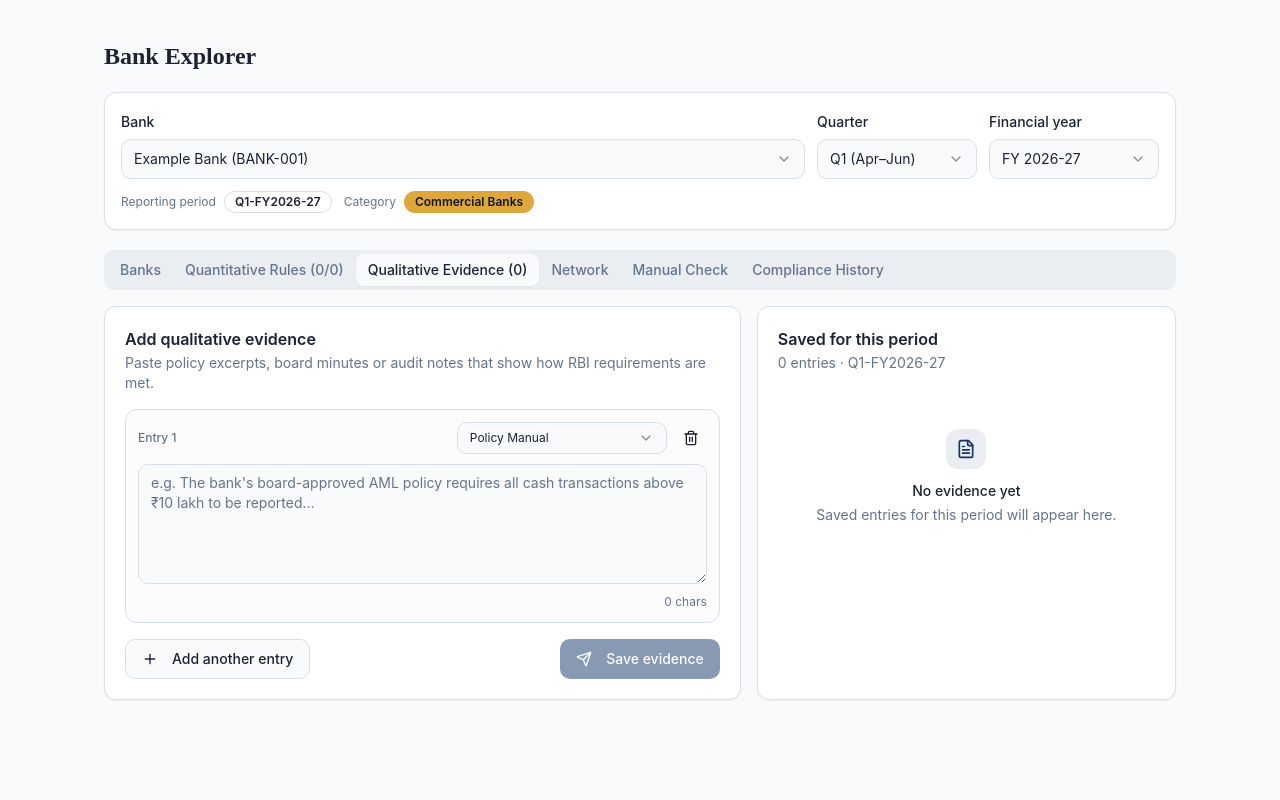
Test: CompliancePage › submits qualitative evidence and keeps failed drafts
The image size is (1280, 800).
Replace the text in the text box named "Evidence text" with "The bank's board-approved AML policy requires CTR filing within 15 days." at x=422, y=524, box top-left (138, 464), bottom-right (707, 584)
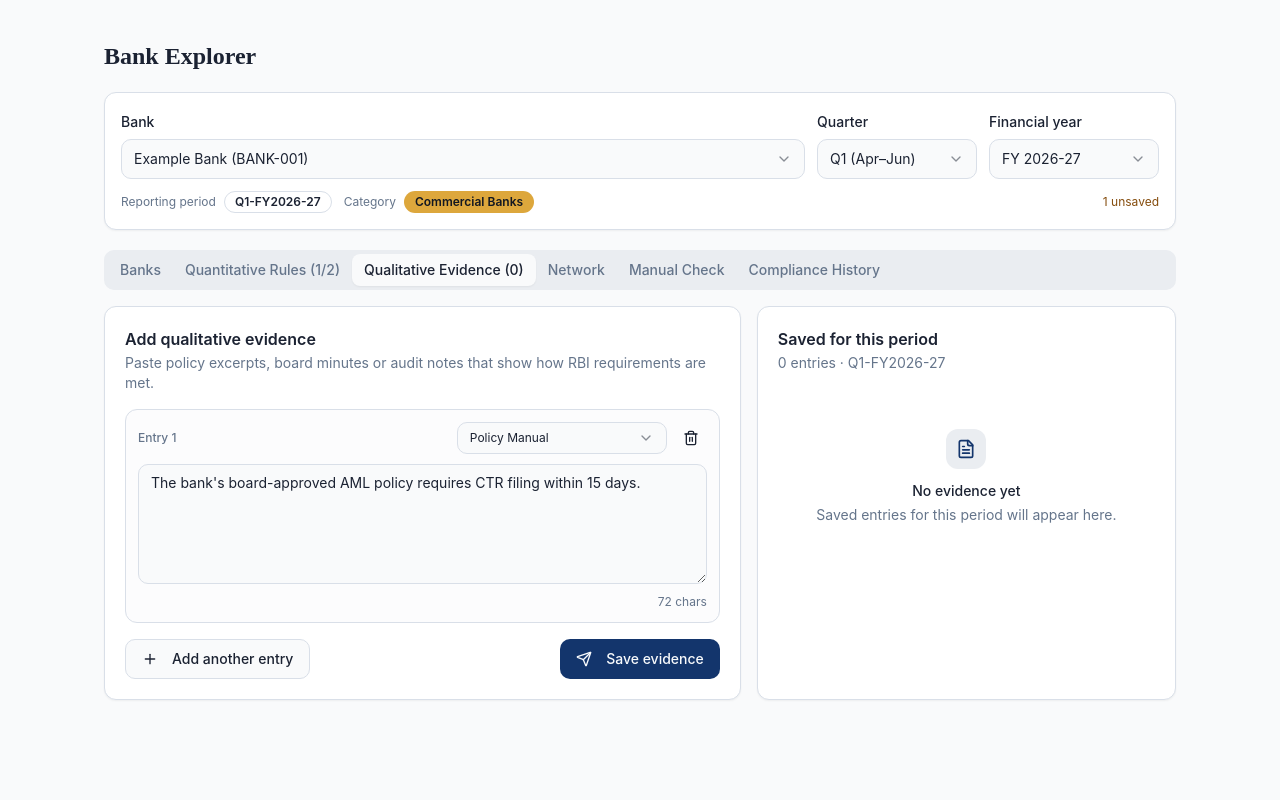
Click the button "Save evidence" at x=640, y=659, box top-left (560, 639), bottom-right (720, 679)
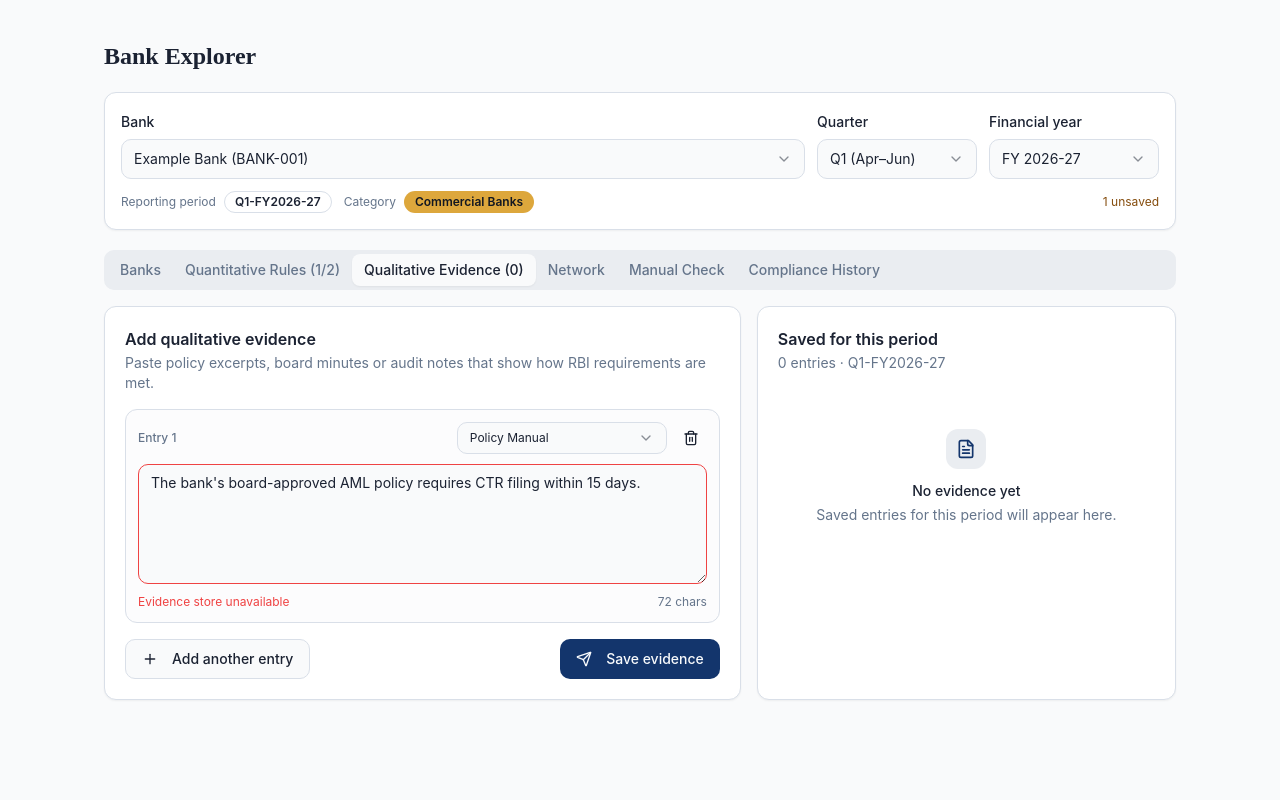
Result: the text "Evidence store unavailable" is shown at top-left (138, 594), bottom-right (290, 610)
